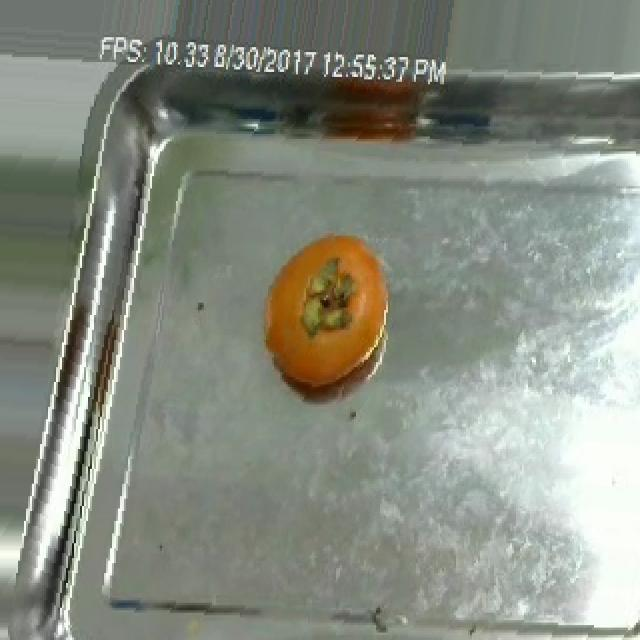Fruit: (254, 223, 396, 400)
